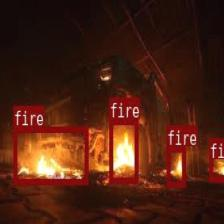fire: (13, 126, 87, 184), (109, 118, 138, 181), (166, 145, 185, 187), (208, 137, 224, 180)
